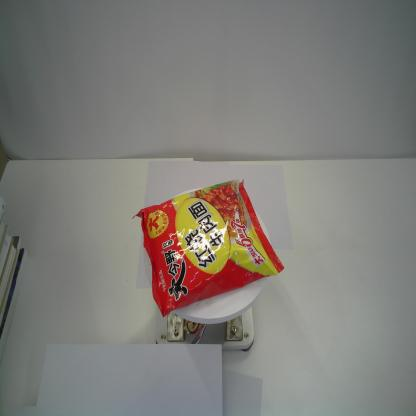Instant Noodles: (132, 177, 284, 319)
